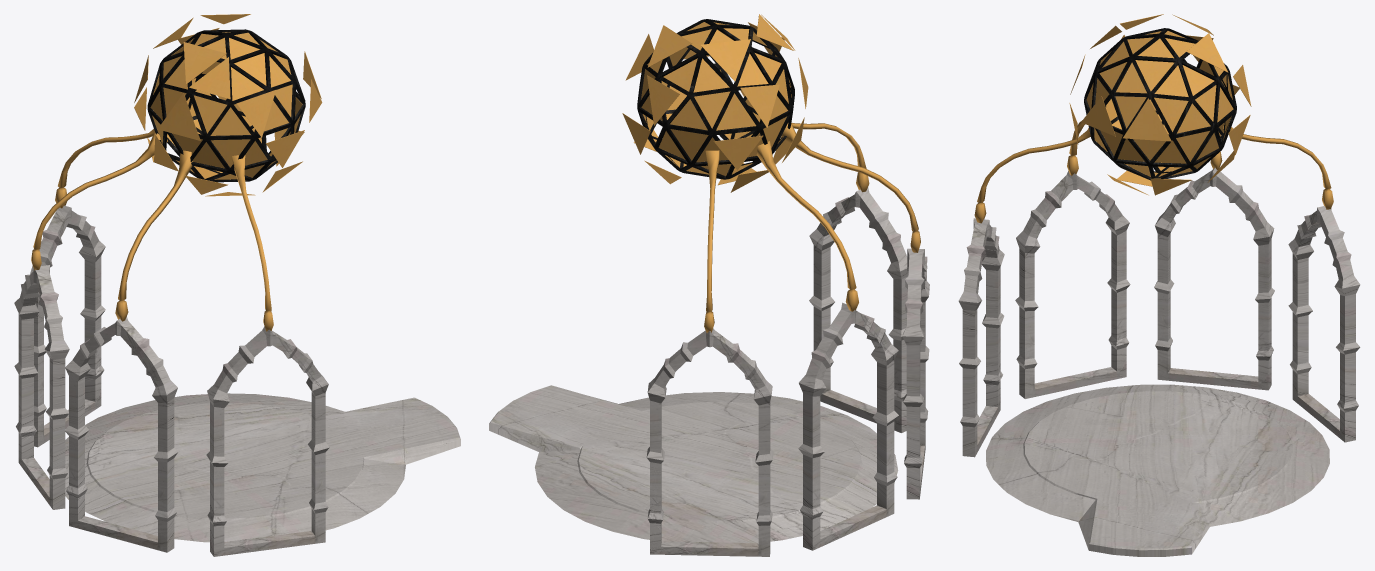
The model's file is Main-gates.glb.
The picture shows the model from 3 angles, left to right: view 1: azimuth 30°, elevation 25°; view 2: azimuth 150°, elevation 25°; view 3: azimuth 270°, elevation 25°; orthographic projection. The views are drawn at different scales.
Visible parts, largest first — view 1: Circle, core glass, Cube.004, Cube.011, Cube.008, core frame, Cube, Cube.016, Cube.017, Cube.015, Cube.018; view 2: Circle, core glass, Cube.008, Cube, core frame, Cube.011, Cube.004, Cube.017, Cube.016, Cube.018, Cube.015; view 3: Circle, core glass, Cube.004, Cube, Cube.008, core frame, Cube.011, Cube.015, Cube.018.
Part boxes in pixels (left/top/right/bottom): Circle: left=65, top=393, right=460, bottom=542; core glass: left=134, top=14, right=322, bottom=196; Cube.004: left=64, top=316, right=178, bottom=552; Cube.011: left=206, top=326, right=329, bottom=556; Cube.008: left=14, top=265, right=69, bottom=509; core frame: left=147, top=29, right=305, bottom=182; Cube: left=23, top=205, right=105, bottom=447; Cube.016: left=115, top=150, right=192, bottom=321; Cube.017: left=31, top=131, right=167, bottom=270; Cube.015: left=232, top=155, right=273, bottom=331; Cube.018: left=55, top=129, right=154, bottom=208; Circle: left=489, top=385, right=898, bottom=543; core glass: left=622, top=14, right=808, bottom=192; Cube.008: left=798, top=302, right=898, bottom=550; Cube: left=646, top=328, right=773, bottom=556; core frame: left=637, top=19, right=794, bottom=179; Cube.011: left=809, top=187, right=908, bottom=432; Cube.004: left=902, top=248, right=929, bottom=499; Cube.017: left=756, top=141, right=858, bottom=311; Cube.016: left=779, top=123, right=920, bottom=252; Cube.018: left=704, top=150, right=719, bottom=332; Cube.015: left=791, top=122, right=869, bottom=192; Circle: left=986, top=384, right=1329, bottom=556; core glass: left=1069, top=14, right=1251, bottom=195; Cube.004: left=1015, top=171, right=1130, bottom=398; Cube: left=1288, top=206, right=1360, bottom=442; Cube.008: left=1154, top=168, right=1274, bottom=390; core frame: left=1084, top=28, right=1236, bottom=180; Cube.011: left=958, top=218, right=1004, bottom=457; Cube.015: left=974, top=127, right=1090, bottom=223; Cube.018: left=1229, top=127, right=1333, bottom=209.
Bounding box in the file's own units: 15.1 × 15.98 × 13.74.
3 materials, 3 textured.
